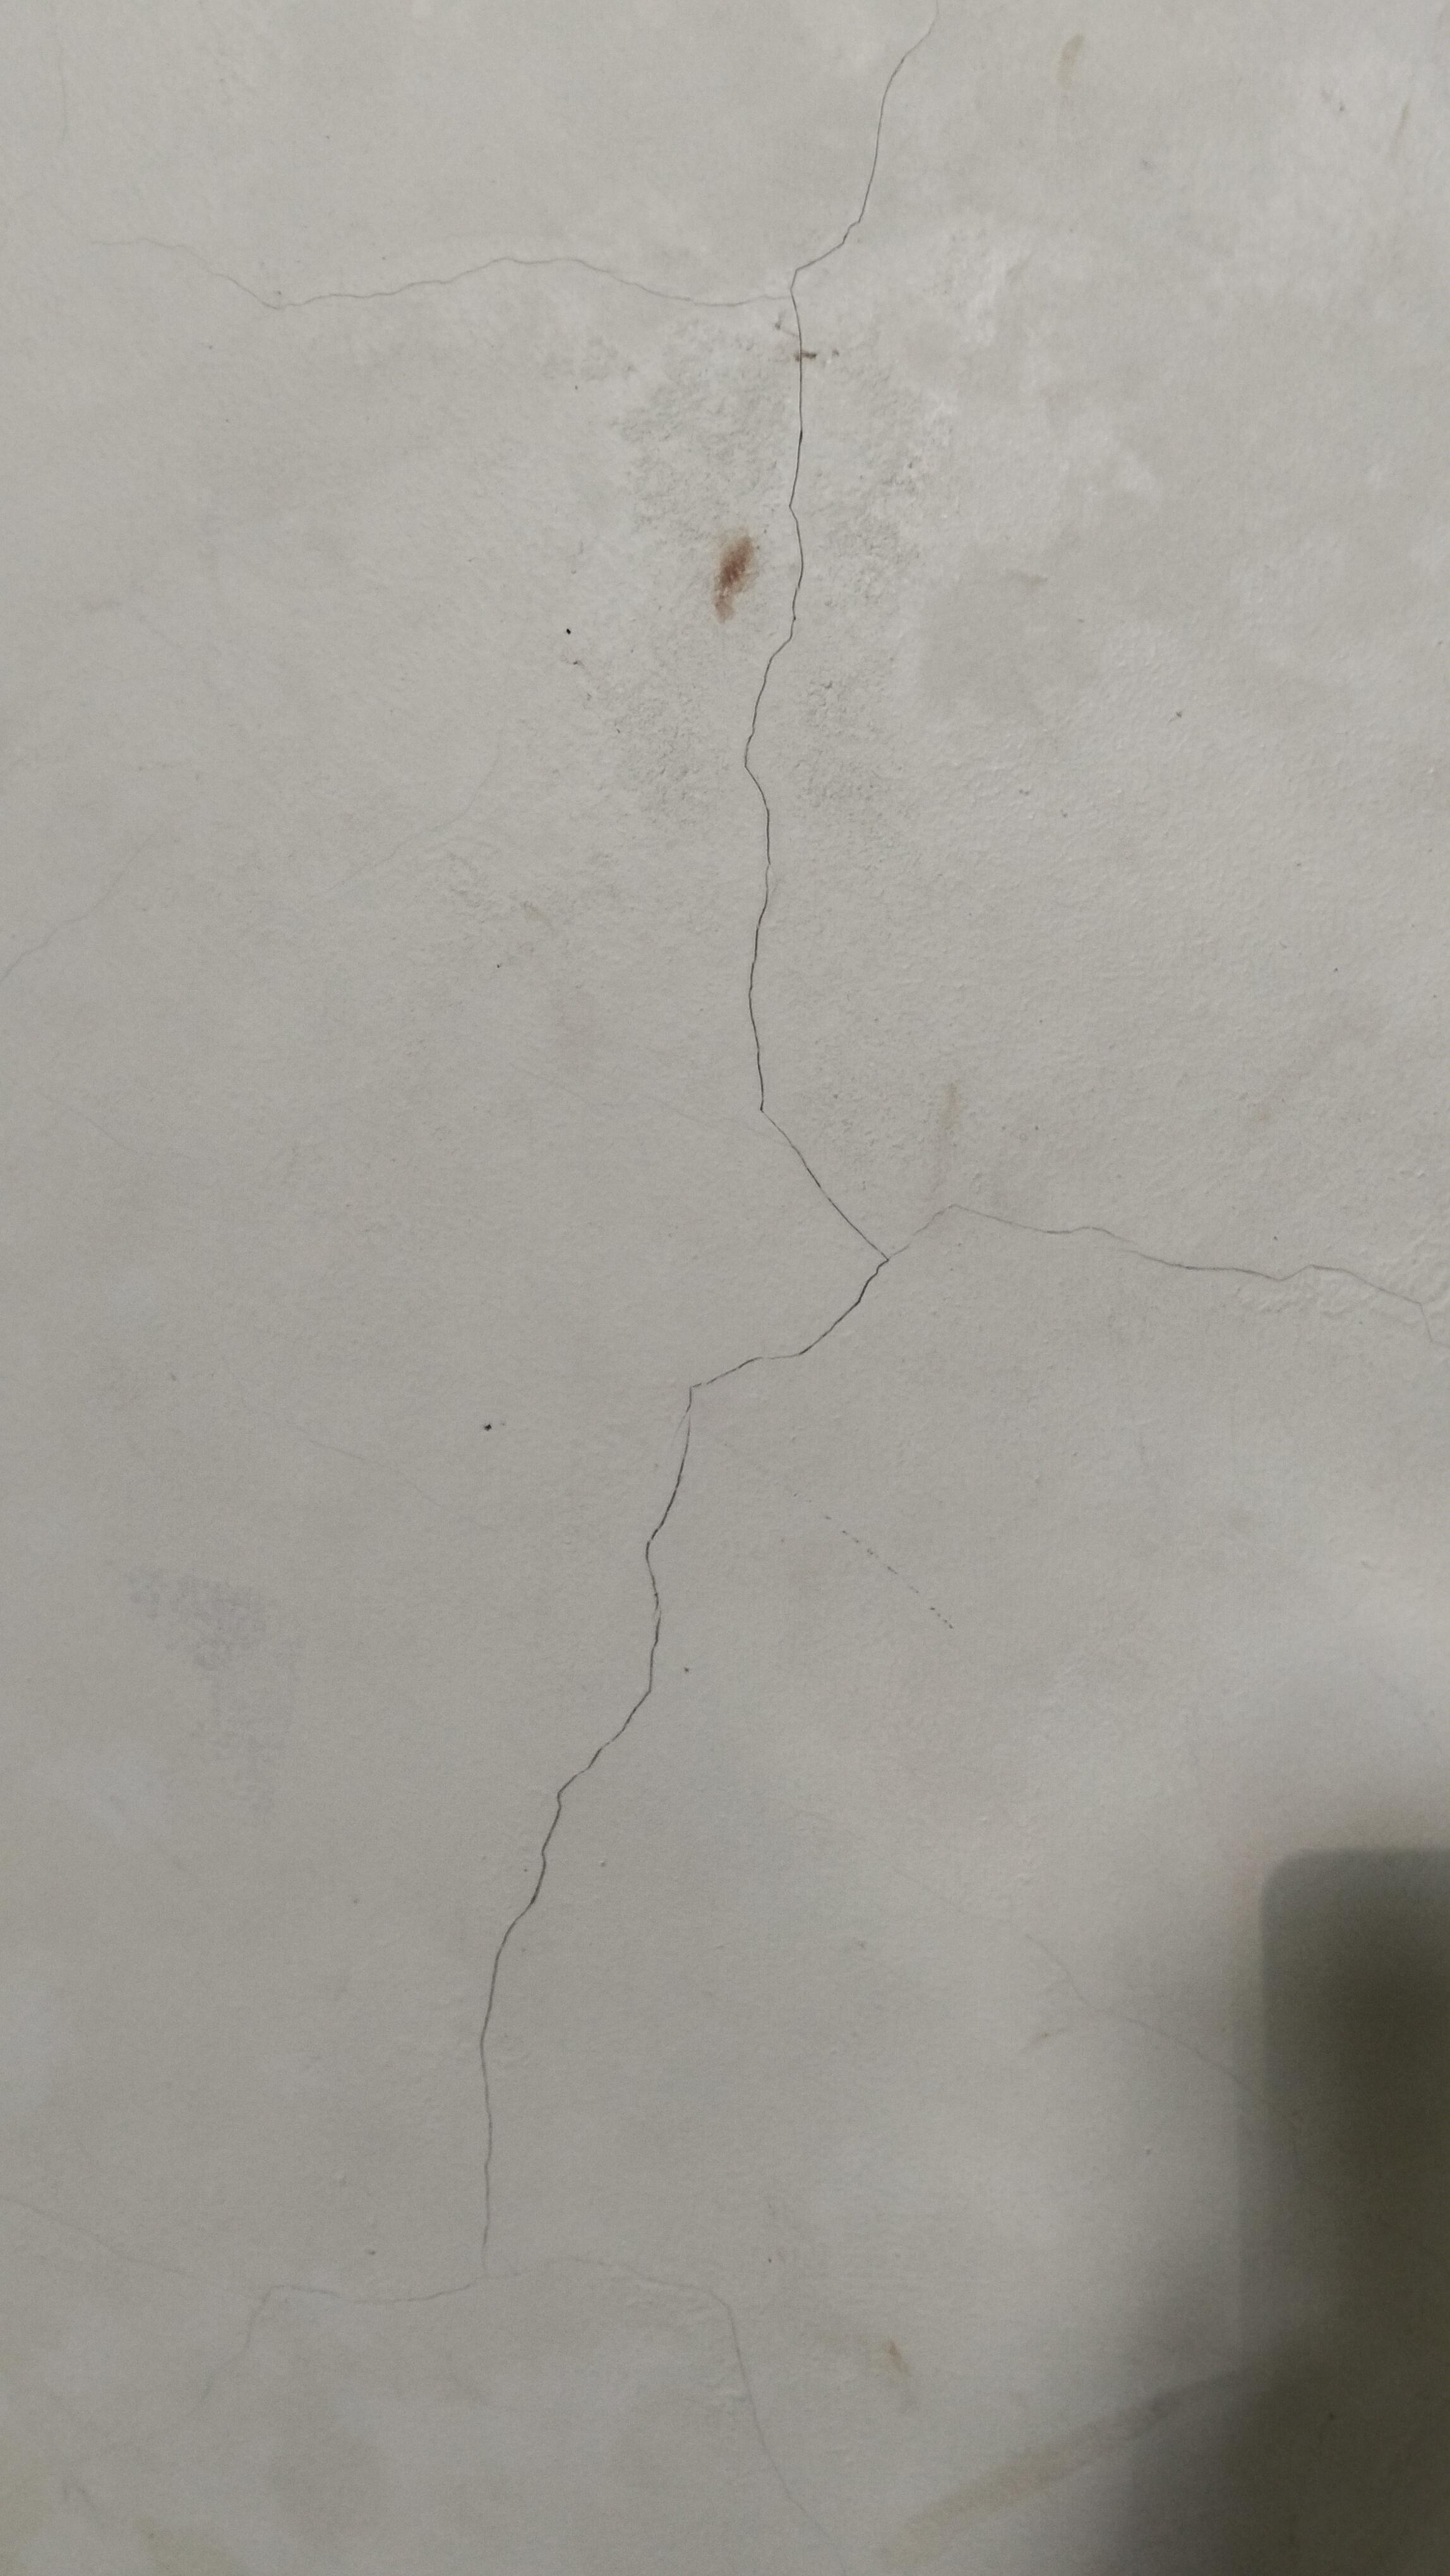Crack: (441, 1251, 903, 2316), (715, 626, 921, 1267), (906, 1189, 1420, 1322), (809, 12, 954, 265), (772, 255, 860, 651)
